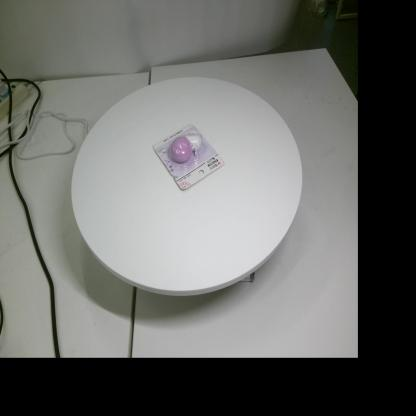Stationery: (153, 124, 224, 190)
